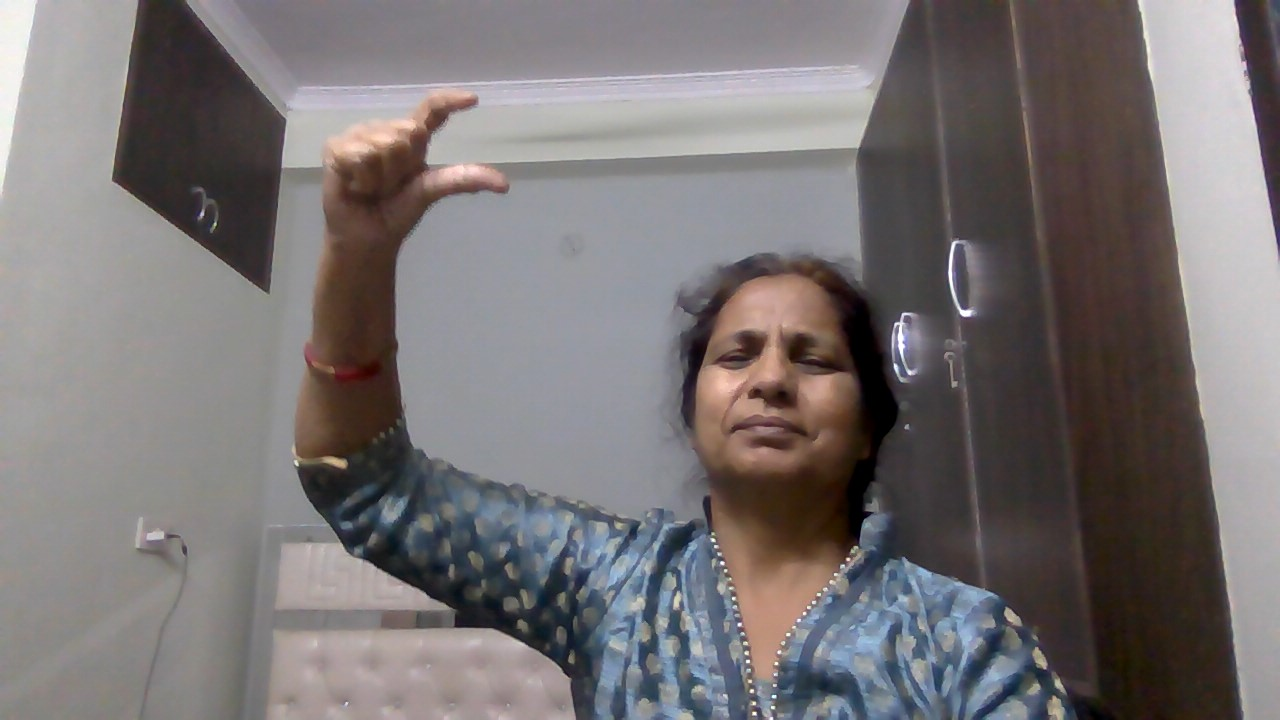Paste: (312, 79, 528, 277)
